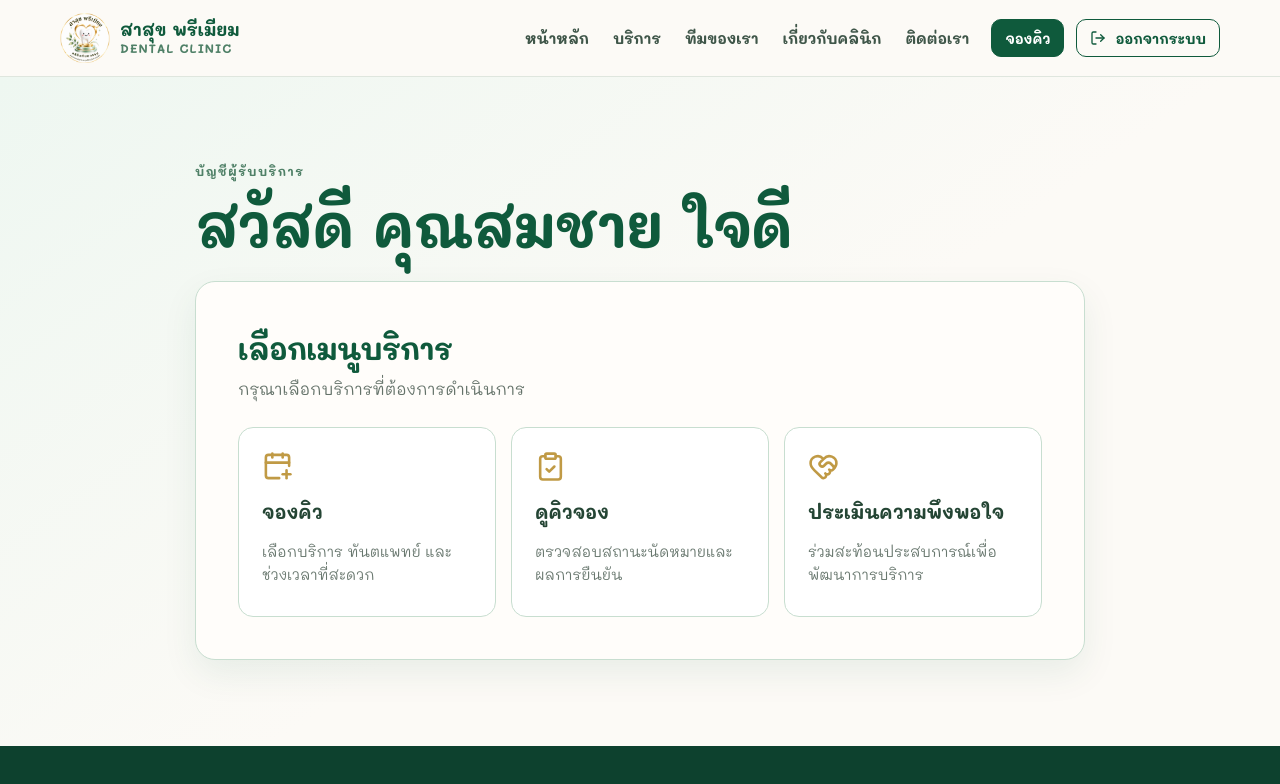
clinic SPA › opens booked queues directly from the patient menu without a manual refresh action
Click the link "ดูคิวจอง ตรวจสอบสถานะนัดหมายและผลการยืนยัน" at (640, 522), box 511,427 -> 769,617
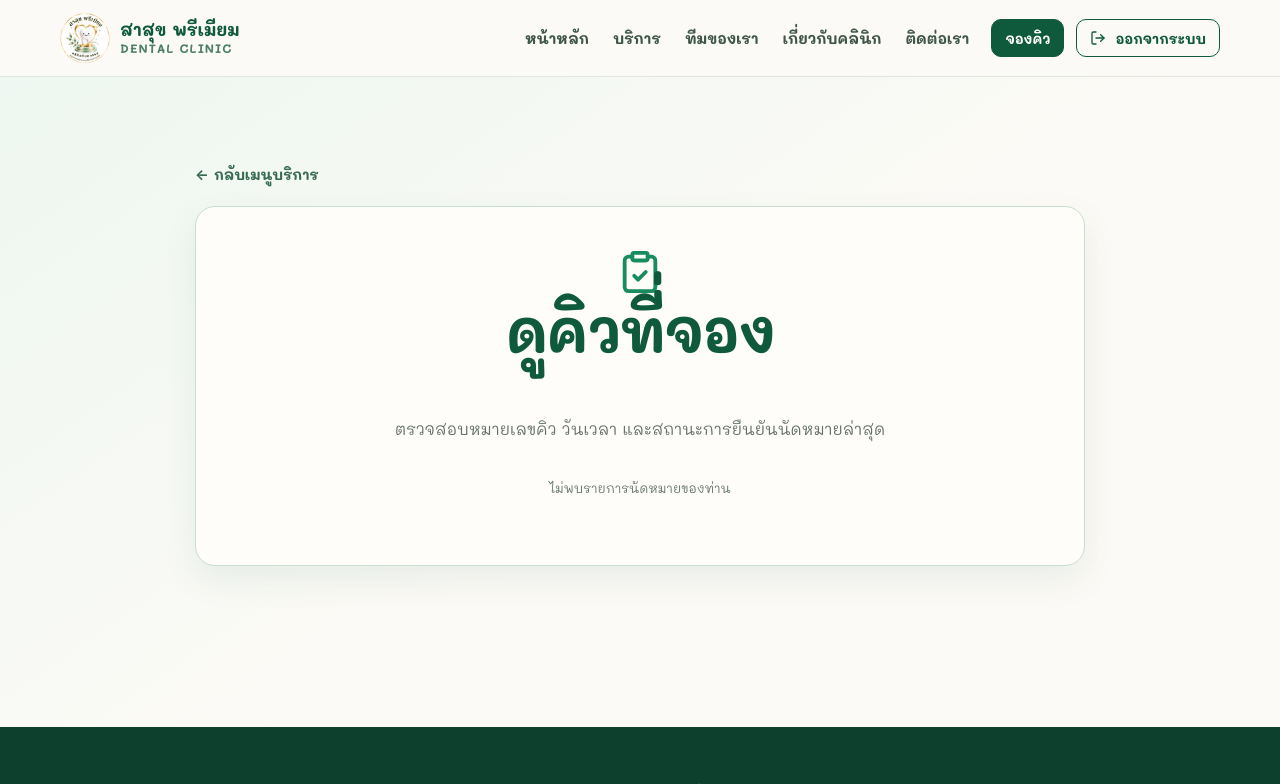
Expected: the heading "ดูคิวที่จอง" is shown, 506,295 -> 774,366
